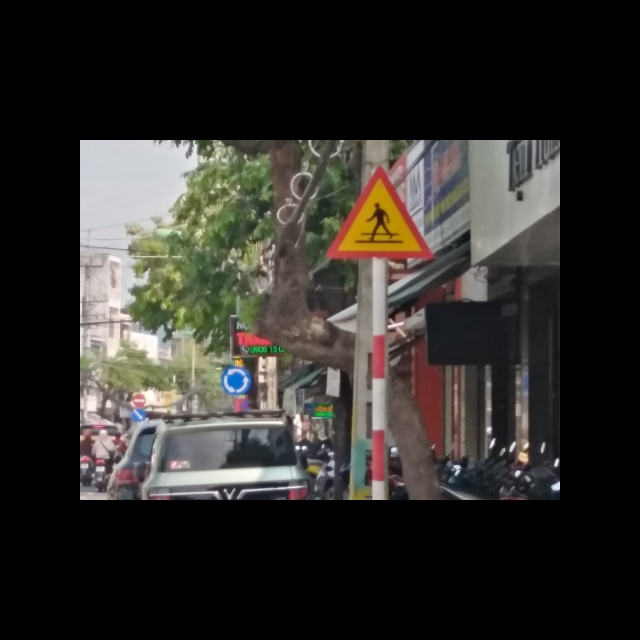Nơi giao nhau chạy theo vòng xuyến: (220, 368, 252, 397)
Đường người đi bộ sang đường: (325, 167, 434, 259)
